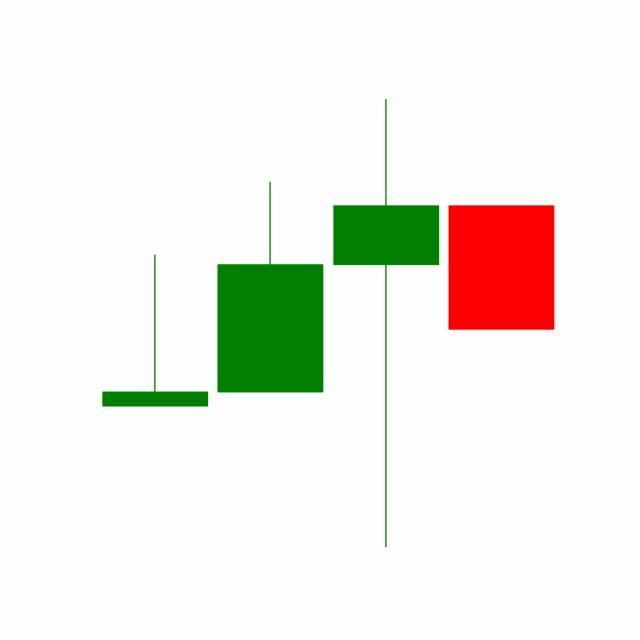Marubozu: (444, 204, 560, 331)
